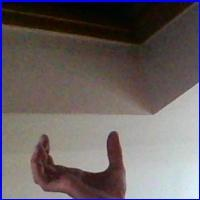space: (24, 129, 143, 197)
